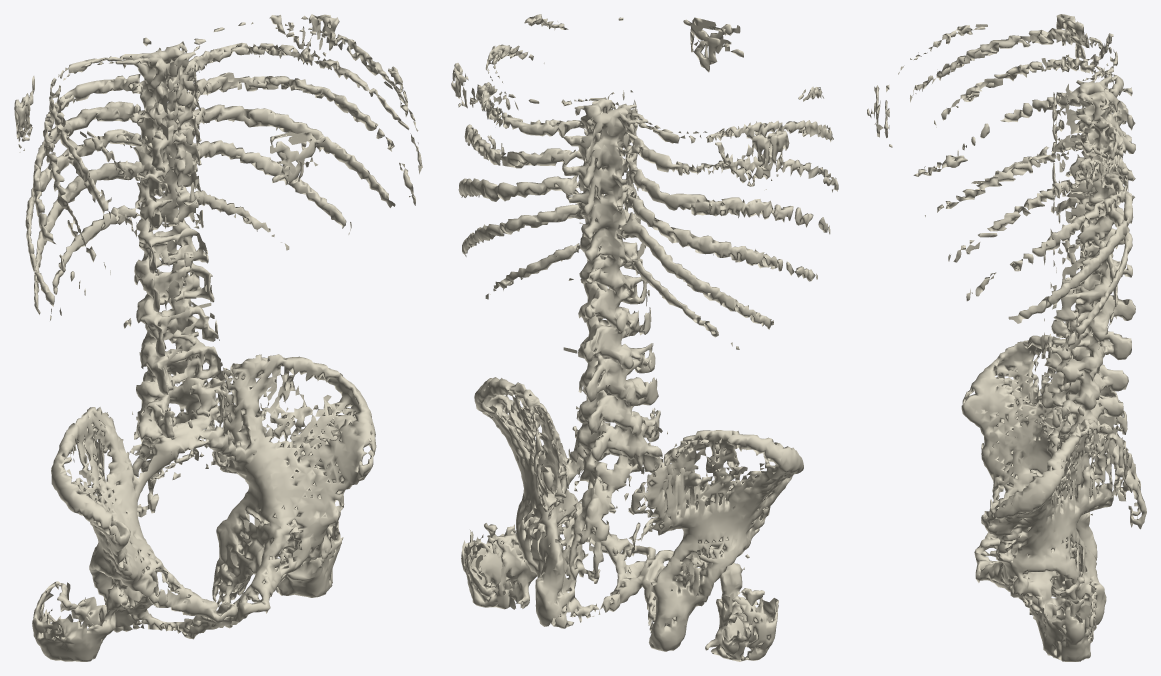
The model's file is bone-density.glb.
The picture shows the model from 3 angles, left to right: view 1: azimuth 30°, elevation 25°; view 2: azimuth 150°, elevation 25°; view 3: azimuth 270°, elevation 25°; orthographic projection. The views are drawn at different scales.
Visible parts, largest first — view 1: CT dense-voxel surface; view 2: CT dense-voxel surface; view 3: CT dense-voxel surface.
Boxes of the visible parts, x1,y1,x2,y2 form: CT dense-voxel surface: (14,14,422,661); CT dense-voxel surface: (451,14,838,661); CT dense-voxel surface: (867,14,1146,661).
Bounding box in the file's own units: 0.3094 × 0.4701 × 0.2348.
